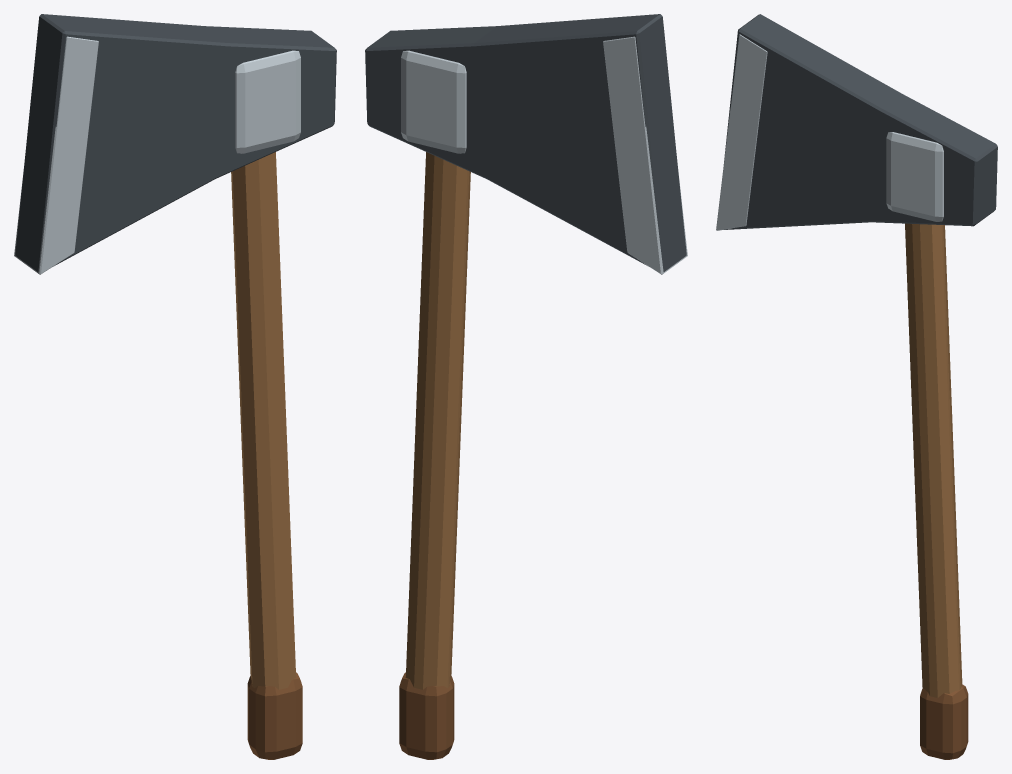
Rendered from tool_wood_axe.glb.
3 renders of one model, left to right at view 1: azimuth 30°, elevation 25°; view 2: azimuth 150°, elevation 25°; view 3: azimuth 330°, elevation 25°, orthographic. The views are drawn at different scales.
Visible parts, largest first — view 1: Axe head, Long wooden axe handle, Bright axe cutting face, Handle eye band, Axe handle grip end; view 2: Axe head, Long wooden axe handle, Bright axe cutting face, Handle eye band, Axe handle grip end; view 3: Axe head, Long wooden axe handle, Bright axe cutting face, Handle eye band, Axe handle grip end.
Boxes of the visible parts, x1,y1,x2,y2 form: Axe head: (15,14,336,271); Long wooden axe handle: (231,152,296,689); Bright axe cutting face: (14,36,98,274); Handle eye band: (235,50,300,153); Axe handle grip end: (247,672,302,759); Axe head: (365,14,686,271); Long wooden axe handle: (405,152,470,689); Bright axe cutting face: (603,36,687,274); Handle eye band: (401,50,466,153); Axe handle grip end: (399,672,454,759); Axe head: (724,14,997,229); Long wooden axe handle: (905,223,962,697); Bright axe cutting face: (716,34,767,230); Handle eye band: (886,132,943,221); Axe handle grip end: (920,684,968,759).
Size of the model in its own units: 0.2678 by 0.6744 by 0.048.
